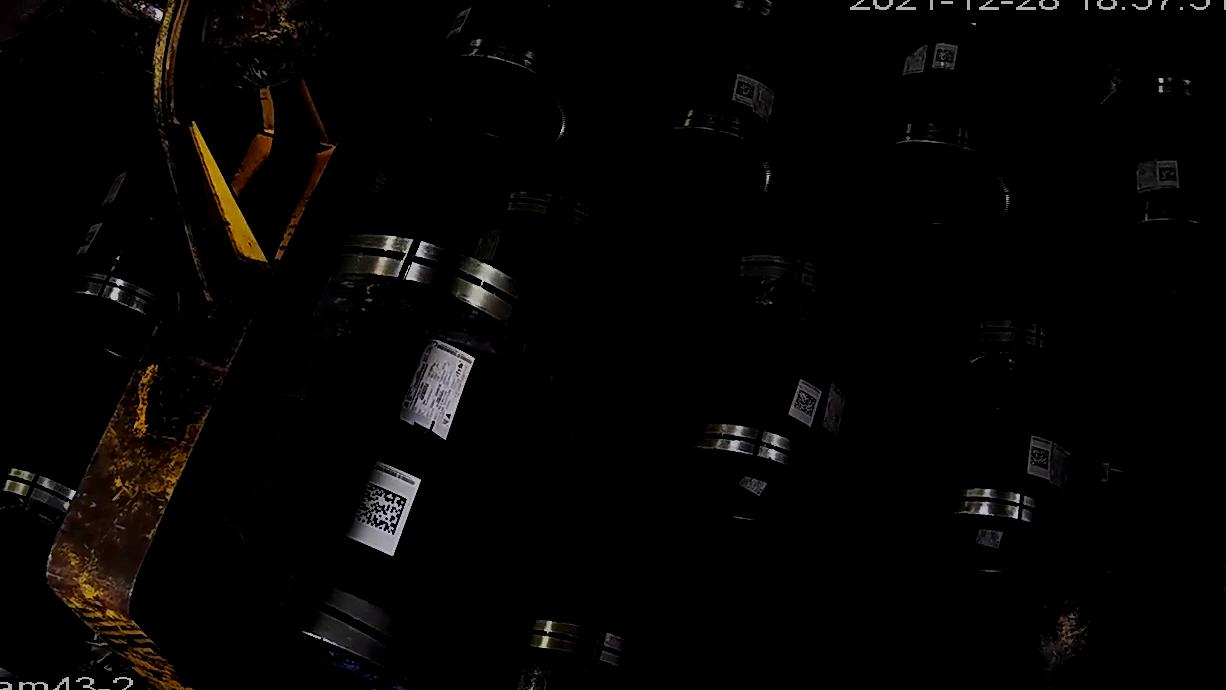data matrix: (352, 480, 410, 541), (792, 387, 820, 419), (1028, 445, 1053, 473), (734, 78, 758, 102), (934, 48, 959, 67), (1157, 165, 1180, 185)
